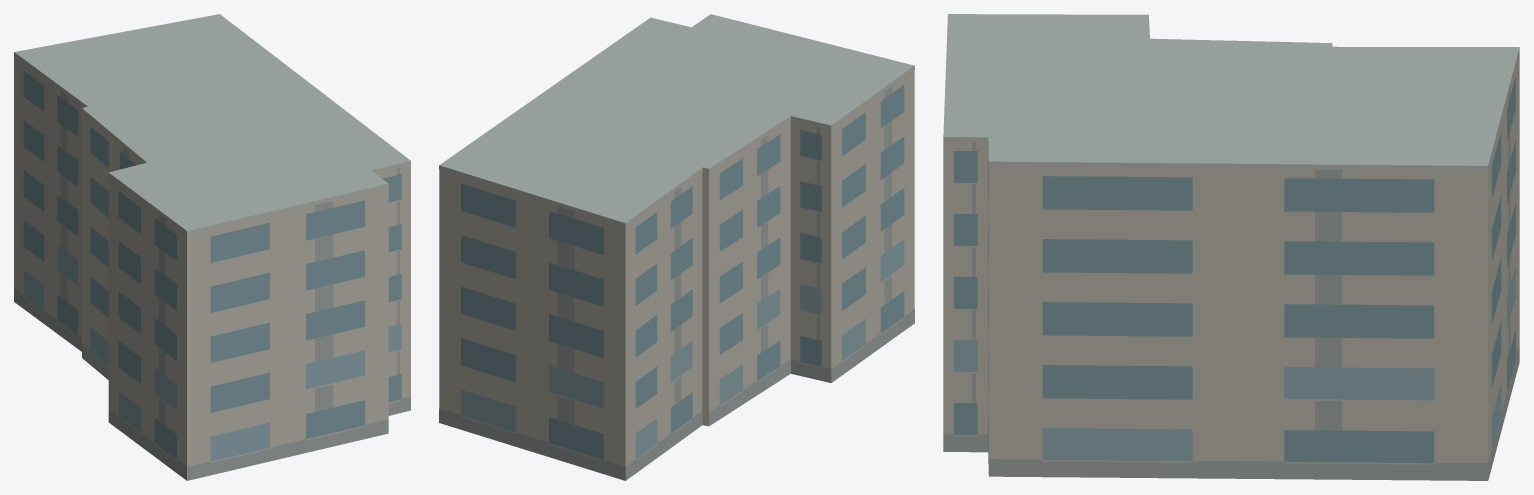
Rendered from survey-upis-32603471.glb.
3 renders of one model, left to right at view 1: azimuth 30°, elevation 25°; view 2: azimuth 150°, elevation 25°; view 3: azimuth 270°, elevation 25°, orthographic. The views are drawn at different scales.
Visible parts, largest first — view 1: survey-upis-32603471.tmp; view 2: survey-upis-32603471.tmp; view 3: survey-upis-32603471.tmp.
Boxes of the visible parts, x1,y1,x2,y2 form: survey-upis-32603471.tmp: [14, 14, 410, 480]; survey-upis-32603471.tmp: [439, 14, 914, 480]; survey-upis-32603471.tmp: [943, 14, 1519, 480].
Bounding box in the file's own units: 15.94 × 15.4 × 25.55.
